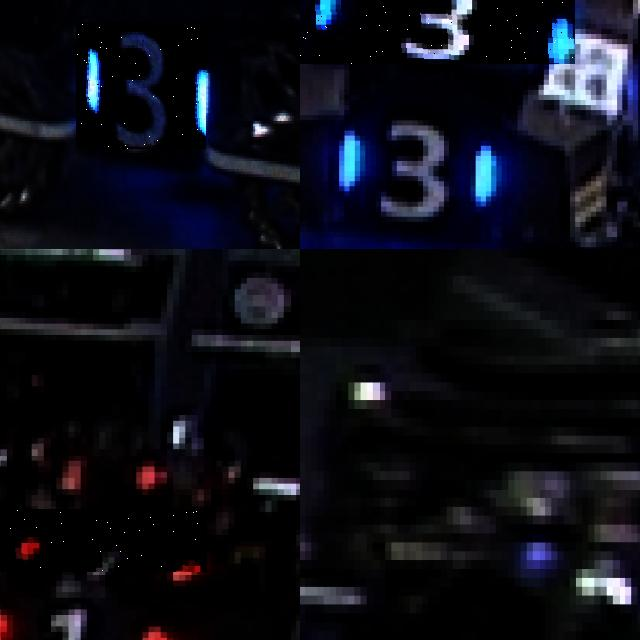B3: (329, 105, 512, 222), (300, 0, 575, 64), (76, 22, 206, 150)
R1: (0, 509, 206, 572), (0, 580, 185, 640)
